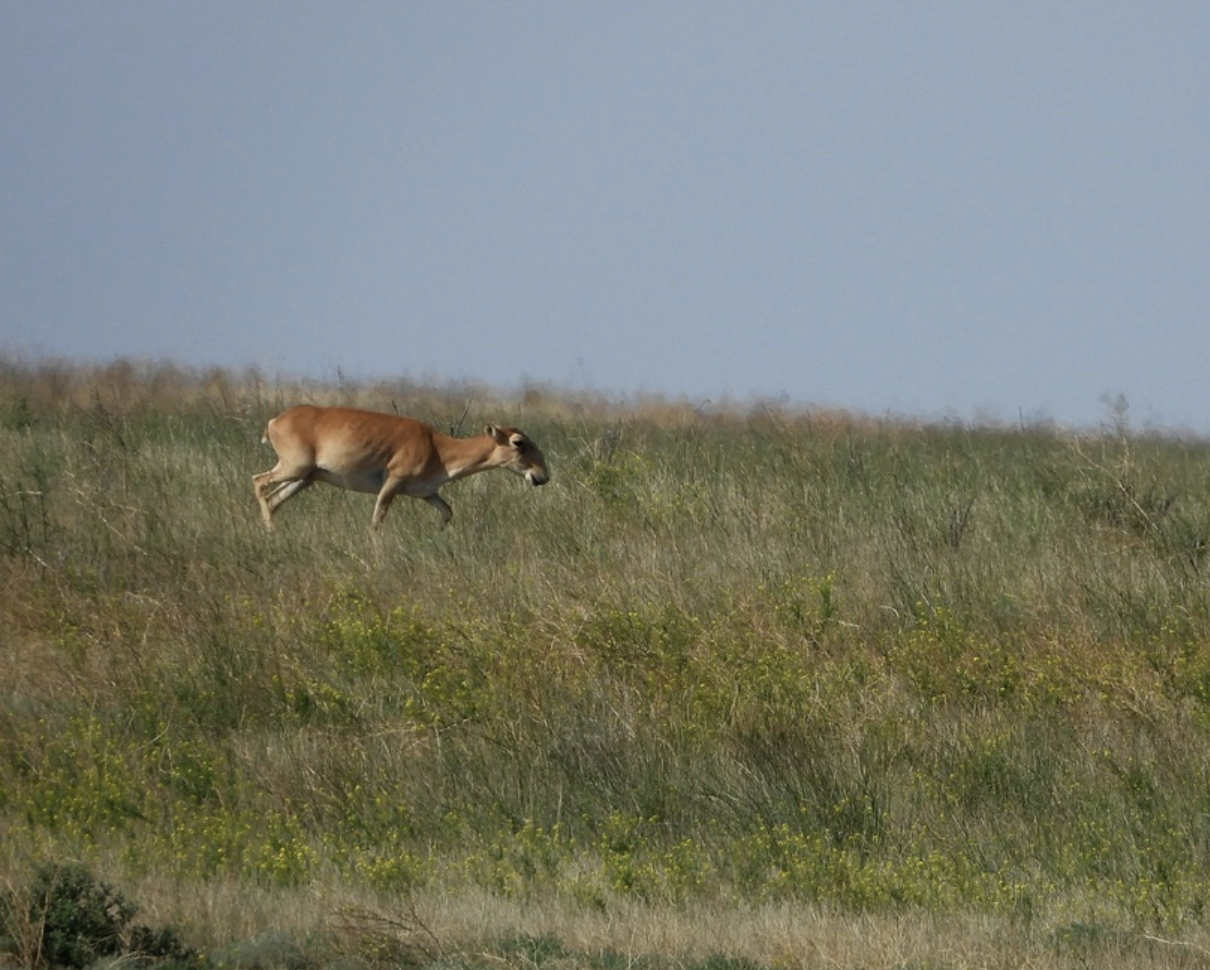saiga: (206, 383, 539, 535)
